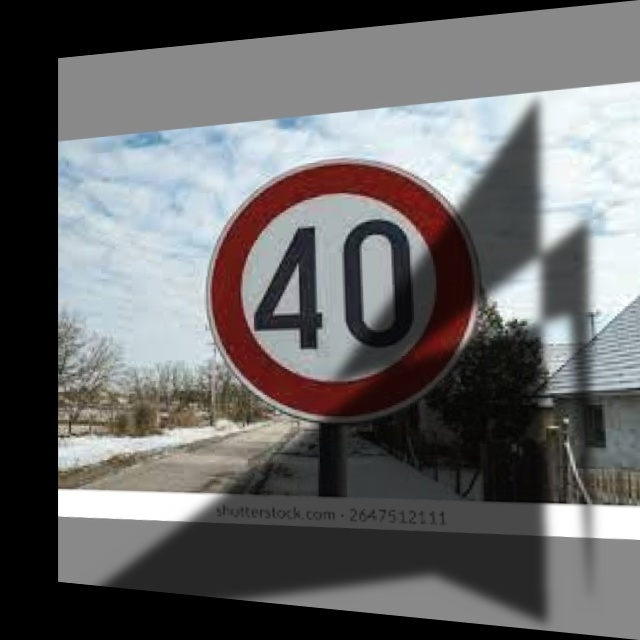Speed_Limit_40: (212, 149, 481, 426)
